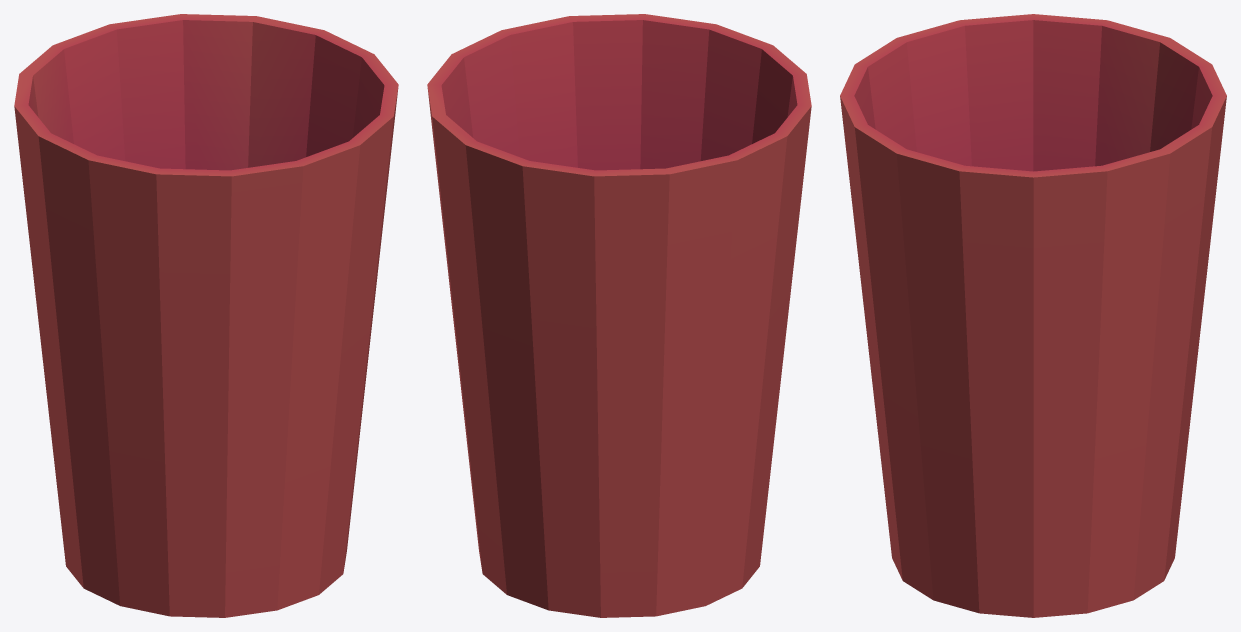
3 renders of one model, left to right at view 1: azimuth 30°, elevation 25°; view 2: azimuth 150°, elevation 25°; view 3: azimuth 270°, elevation 25°, orthographic.
Parts seen in each view (by area): view 1: faceted_wall; view 2: faceted_wall; view 3: faceted_wall.
Boxes of the visible parts, x1=… form: faceted_wall: x1=14, y1=14, x2=398, y2=617; faceted_wall: x1=427, y1=14, x2=811, y2=617; faceted_wall: x1=840, y1=14, x2=1226, y2=617.
Size of the model in its own units: 0.1896 by 0.25 by 0.1896.
